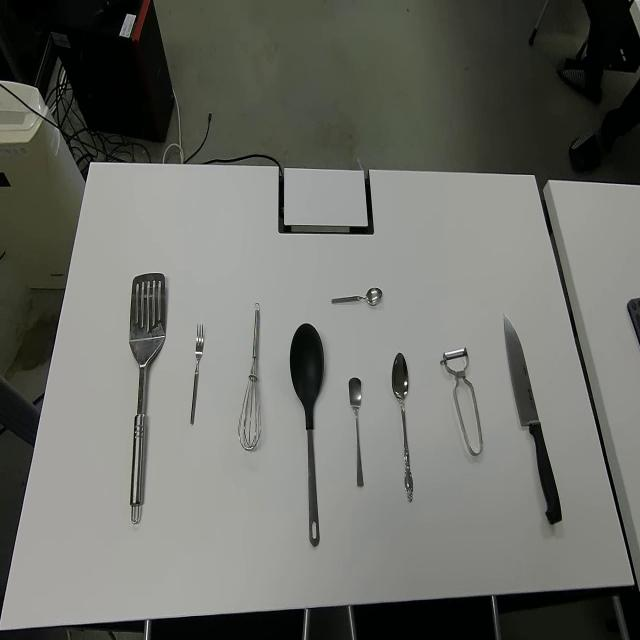Desert-Spoon: (391, 351, 415, 504)
Dinner-Fork: (190, 321, 205, 427)
Kitchen-Knife: (499, 306, 559, 520)
Peeler: (439, 345, 484, 458)
Serving-Spoon: (129, 270, 167, 524), (290, 321, 324, 546)
Tea-Spoon: (347, 375, 365, 489), (331, 285, 383, 309)
Whisk: (238, 303, 262, 452)
